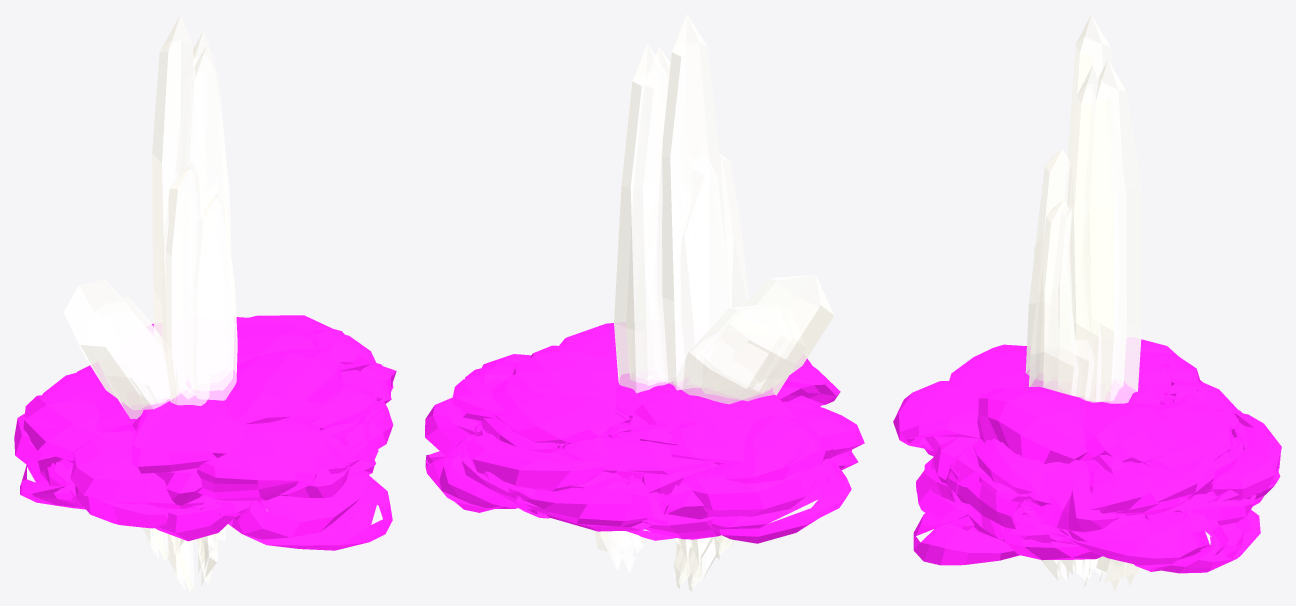
The model's file is XRYSTAL20.gltf.
3 renders of one model, left to right at view 1: azimuth 30°, elevation 25°; view 2: azimuth 150°, elevation 25°; view 3: azimuth 270°, elevation 25°, orthographic.
Parts seen in each view (by area): view 1: Cube.001, Circle.001_Circle.002, Circle.002_Circle.003, Circle; view 2: Cube.001, Circle.001_Circle.002, Circle, Circle.002_Circle.003; view 3: Cube.001, Circle, Circle.002_Circle.003, Circle.001_Circle.002.
Part boxes in pixels (x1,y1,x2,y2): Cube.001: [14, 315, 396, 550]; Circle.001_Circle.002: [63, 14, 211, 560]; Circle.002_Circle.003: [89, 45, 237, 591]; Circle: [86, 31, 234, 573]; Cube.001: [425, 323, 864, 543]; Circle.001_Circle.002: [657, 14, 834, 559]; Circle: [594, 43, 786, 588]; Circle.002_Circle.003: [607, 46, 806, 591]; Cube.001: [893, 339, 1281, 573]; Circle: [1044, 60, 1141, 586]; Circle.002_Circle.003: [1028, 65, 1126, 591]; Circle.001_Circle.002: [1025, 14, 1113, 380].
Size of the model in its own units: 2.51 by 3.56 by 2.18.
